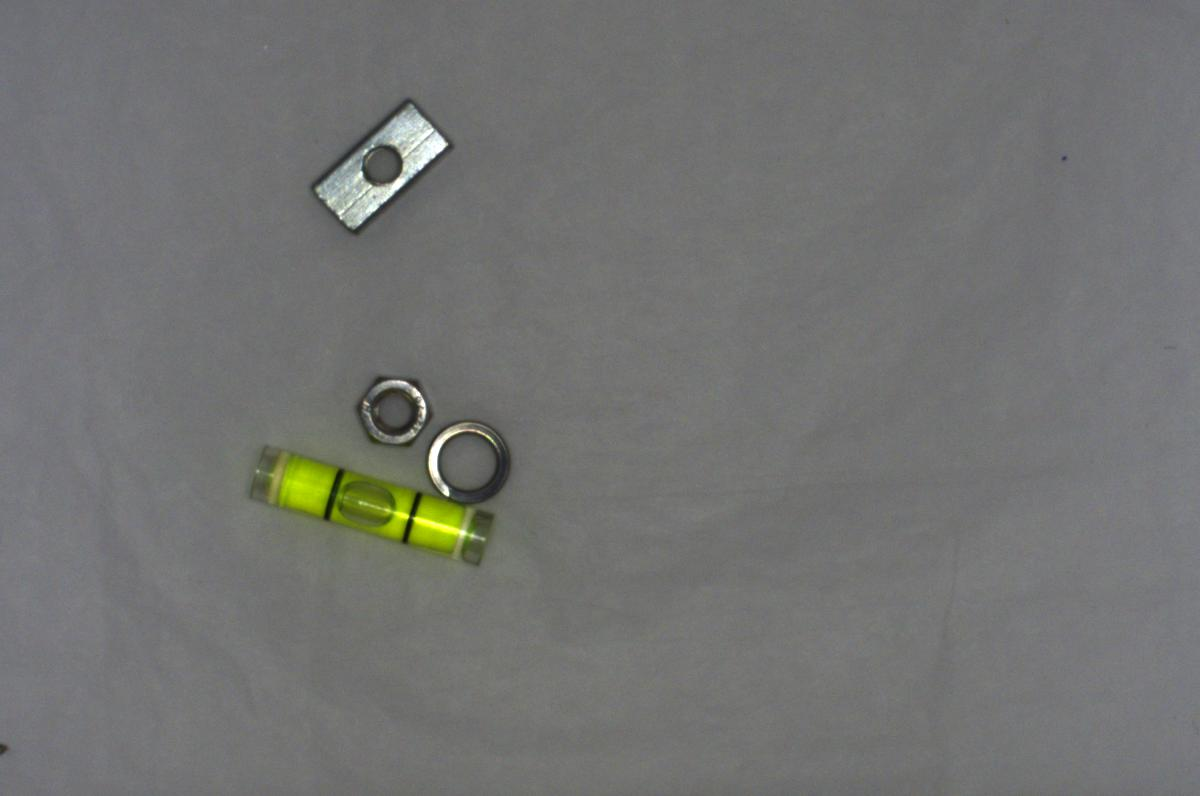Hexagon nut: (345, 365, 437, 453)
Horizontal bubble: (240, 440, 505, 573)
Rectangular nut: (306, 98, 457, 232)
Spring washer: (425, 419, 513, 505)
